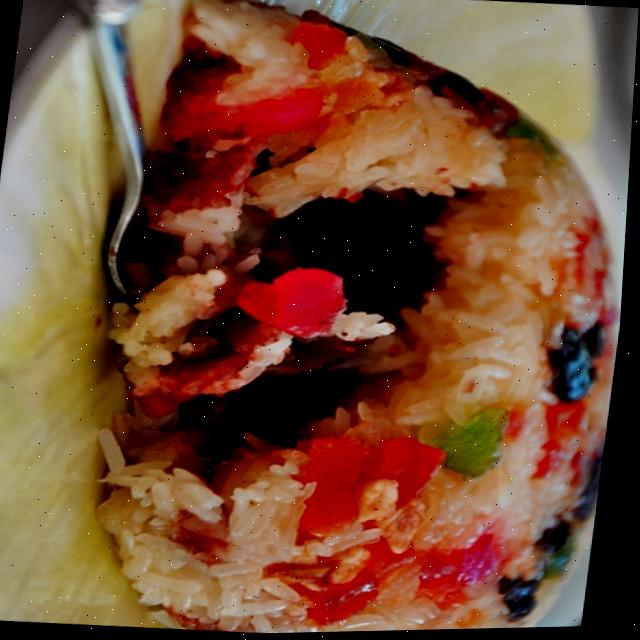米饭主食: (63, 0, 640, 638)
